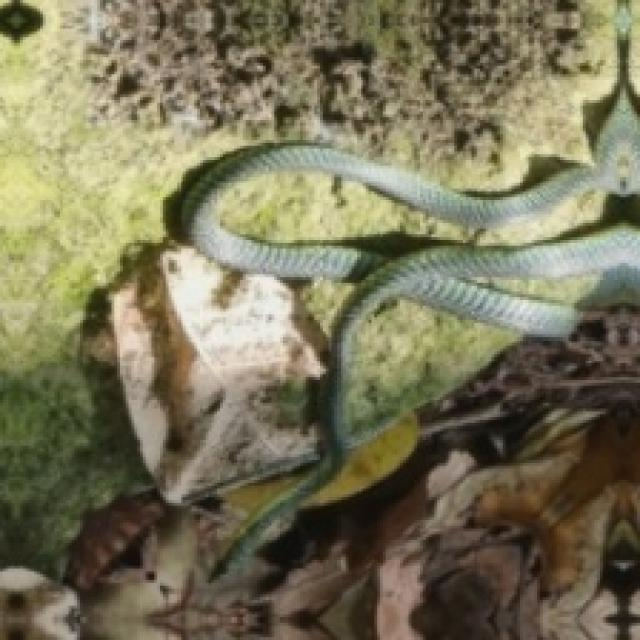paradise tree snake: (185, 0, 640, 568)
